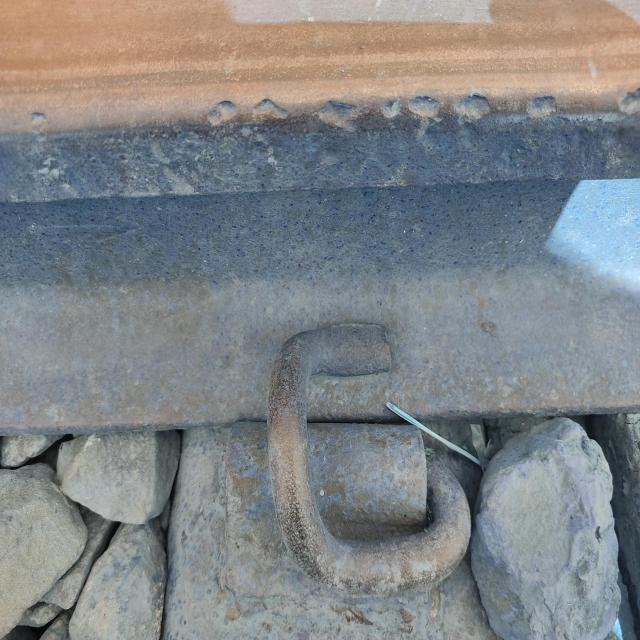Good Fasteners: (163, 323, 495, 638)
